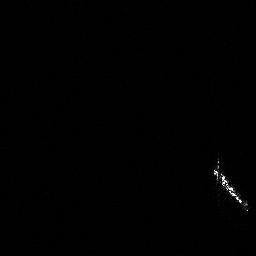ship: (210, 155, 252, 214)
